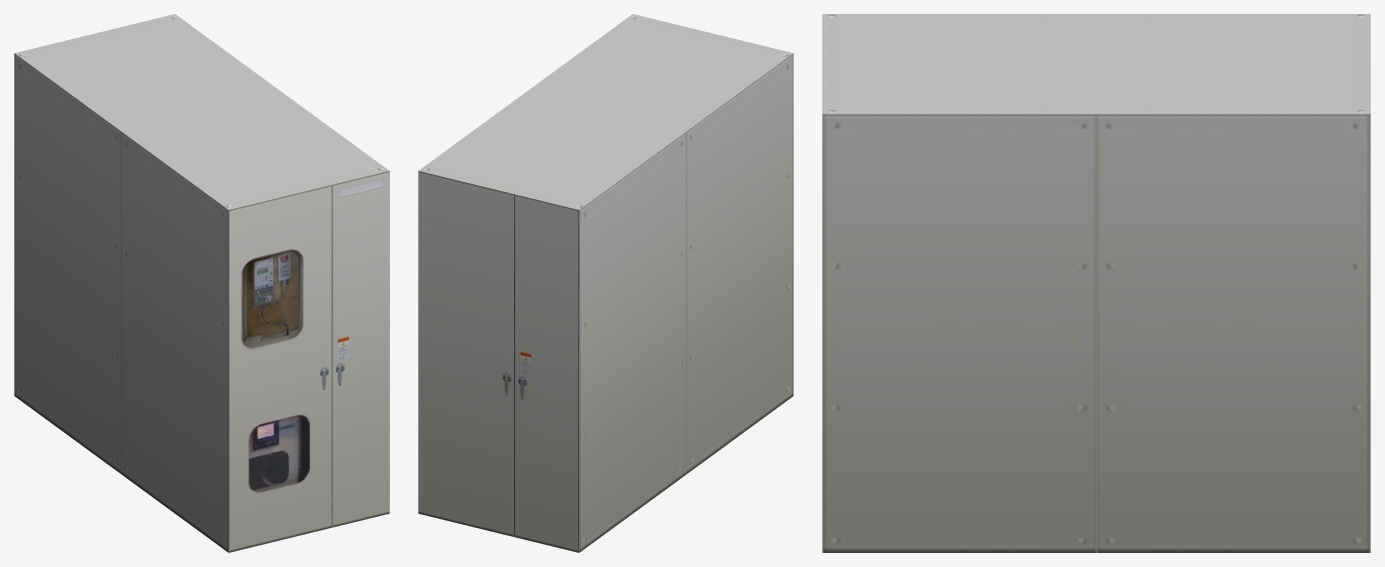
Rendered from SHV_MOF_03.gltf.
3 views of the same model, side by side, from view 1: azimuth 30°, elevation 25°; view 2: azimuth 150°, elevation 25°; view 3: azimuth 270°, elevation 25° (orthographic). The views are drawn at different scales.
Visible parts, largest first — view 1: SHV-A2; view 2: SHV-A2; view 3: SHV-A2.
Part boxes in pixels (x1,y1,x2,y2): SHV-A2: [14, 14, 389, 552]; SHV-A2: [418, 14, 793, 552]; SHV-A2: [822, 14, 1370, 552].
Bounding box in the file's own units: 1.3 × 2.65 × 3.
1 material, 1 textured.
